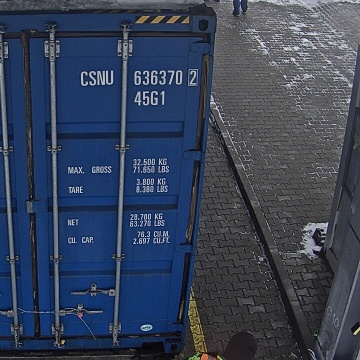serial_id: (81, 70, 196, 86)
